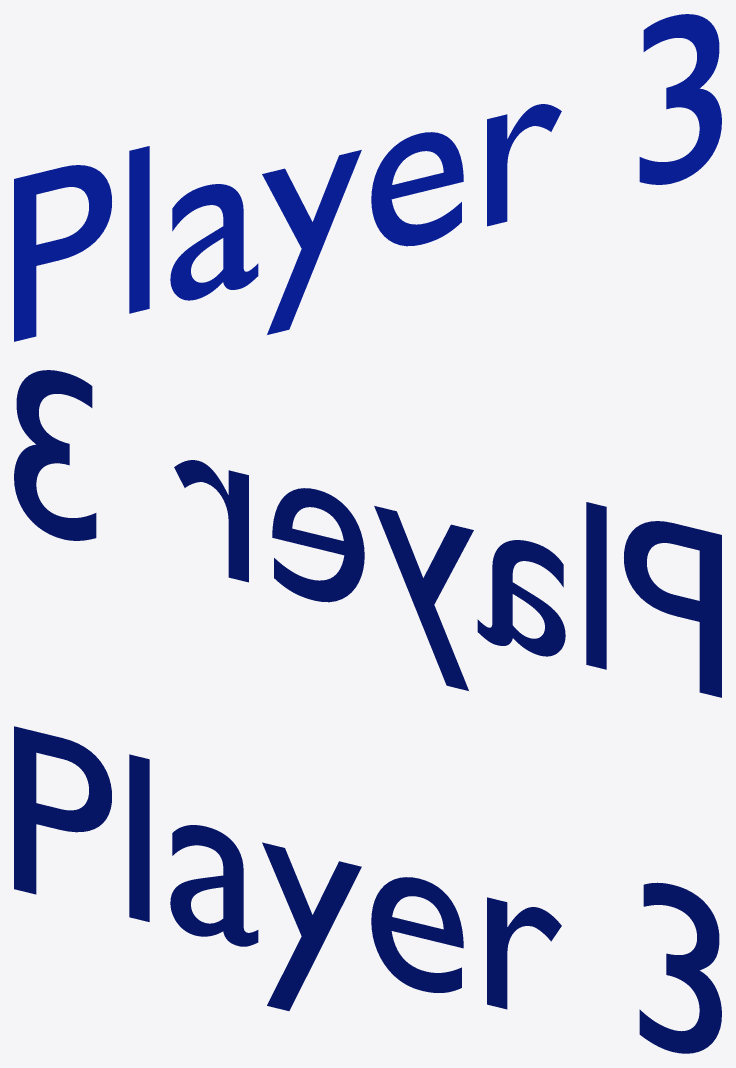
The picture shows the model from 3 angles, top to bottom: view 1: azimuth 30°, elevation 25°; view 2: azimuth 150°, elevation 25°; view 3: azimuth 330°, elevation 25°; orthographic projection.
Parts seen in each view (by area): view 1: Text; view 2: Text; view 3: Text.
Boxes of the visible parts, x1=… form: Text: x1=14, y1=14, x2=721, y2=341; Text: x1=14, y1=370, x2=721, y2=697; Text: x1=14, y1=726, x2=721, y2=1053.
Size of the model in its own units: 3.1 by 0.921 by 0.
